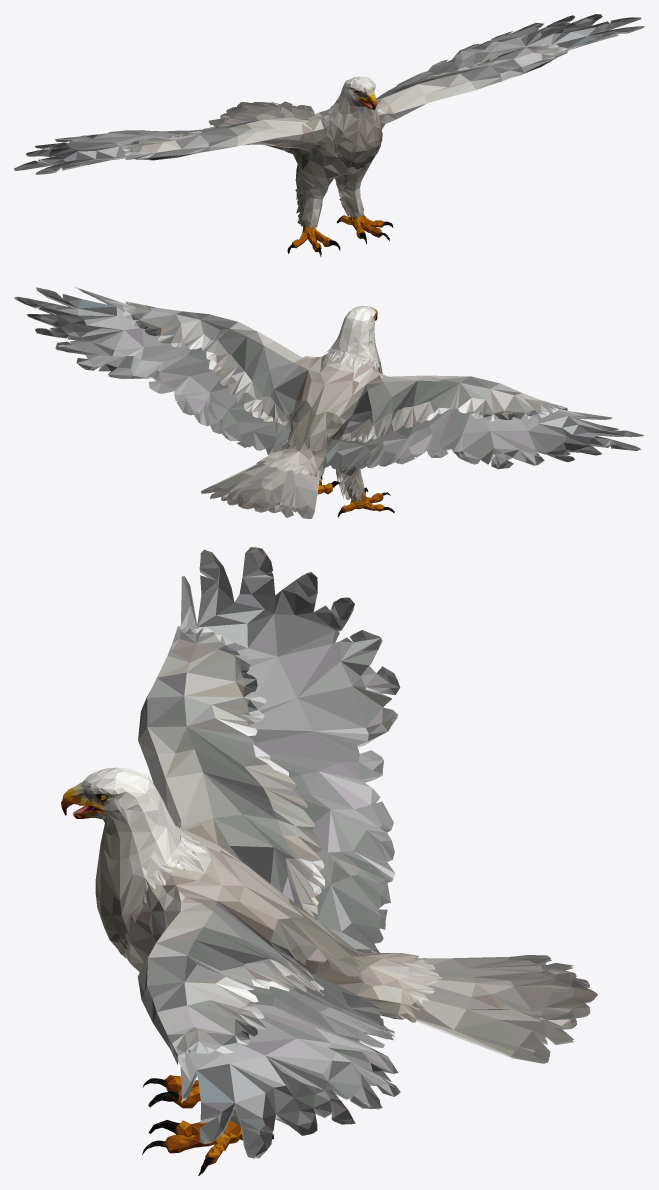
File: Eagle02_sale - upper.obj
The picture shows the model from 3 angles, top to bottom: view 1: azimuth 30°, elevation 25°; view 2: azimuth 150°, elevation 25°; view 3: azimuth 270°, elevation 25°; orthographic projection. The views are drawn at different scales.
Visible parts, largest first — view 1: Eagle; view 2: Eagle; view 3: Eagle.
Part boxes in pixels (x1,y1,x2,y2): Eagle: [14, 14, 644, 256]; Eagle: [14, 286, 644, 518]; Eagle: [61, 547, 597, 1175].
Size of the model in its own units: 52.52 by 14.25 by 19.5.
Materials: 1 (1 with a texture image).
